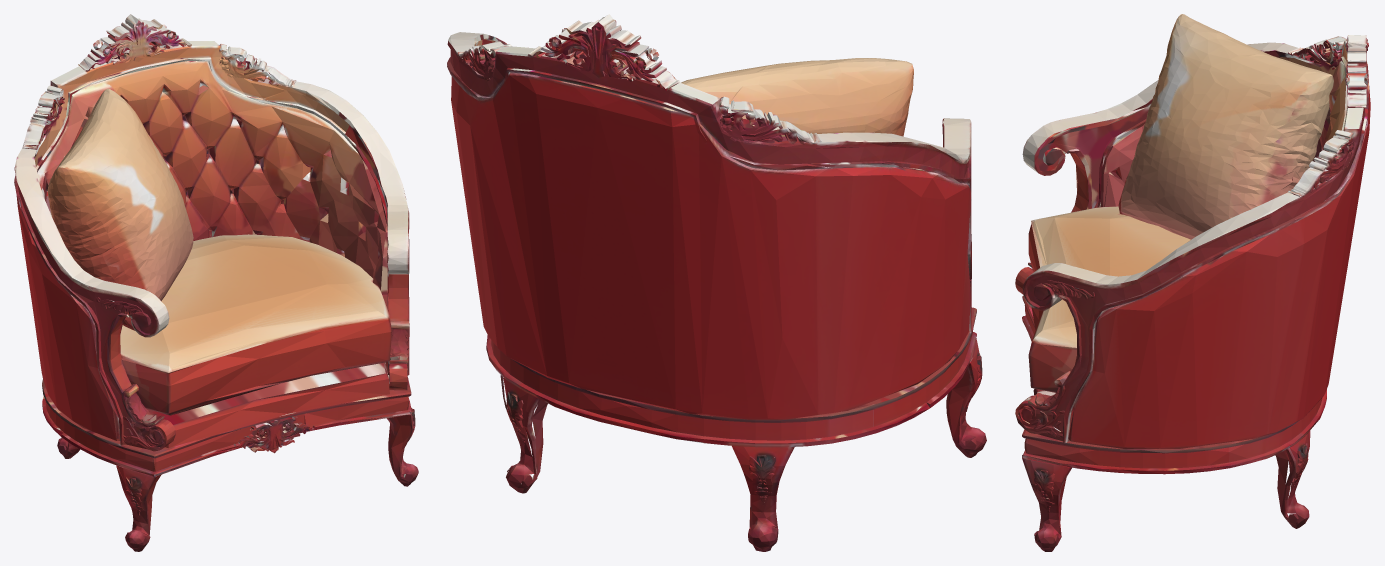
Rendered from edited_mesh.glb.
3 views of the same model, side by side, from view 1: azimuth 30°, elevation 25°; view 2: azimuth 150°, elevation 25°; view 3: azimuth 270°, elevation 25° (orthographic). The views are drawn at different scales.
Parts seen in each view (by area): view 1: solid_001_wire; view 2: solid_001_wire; view 3: solid_001_wire.
Boxes of the visible parts, x1,y1,x2,y2 form: solid_001_wire: (14,14,418,551); solid_001_wire: (447,14,986,551); solid_001_wire: (1015,14,1370,551).
Bounding box in the file's own units: 1.26 × 1.37 × 0.9974.
Materials: 1 (1 with a texture image).
